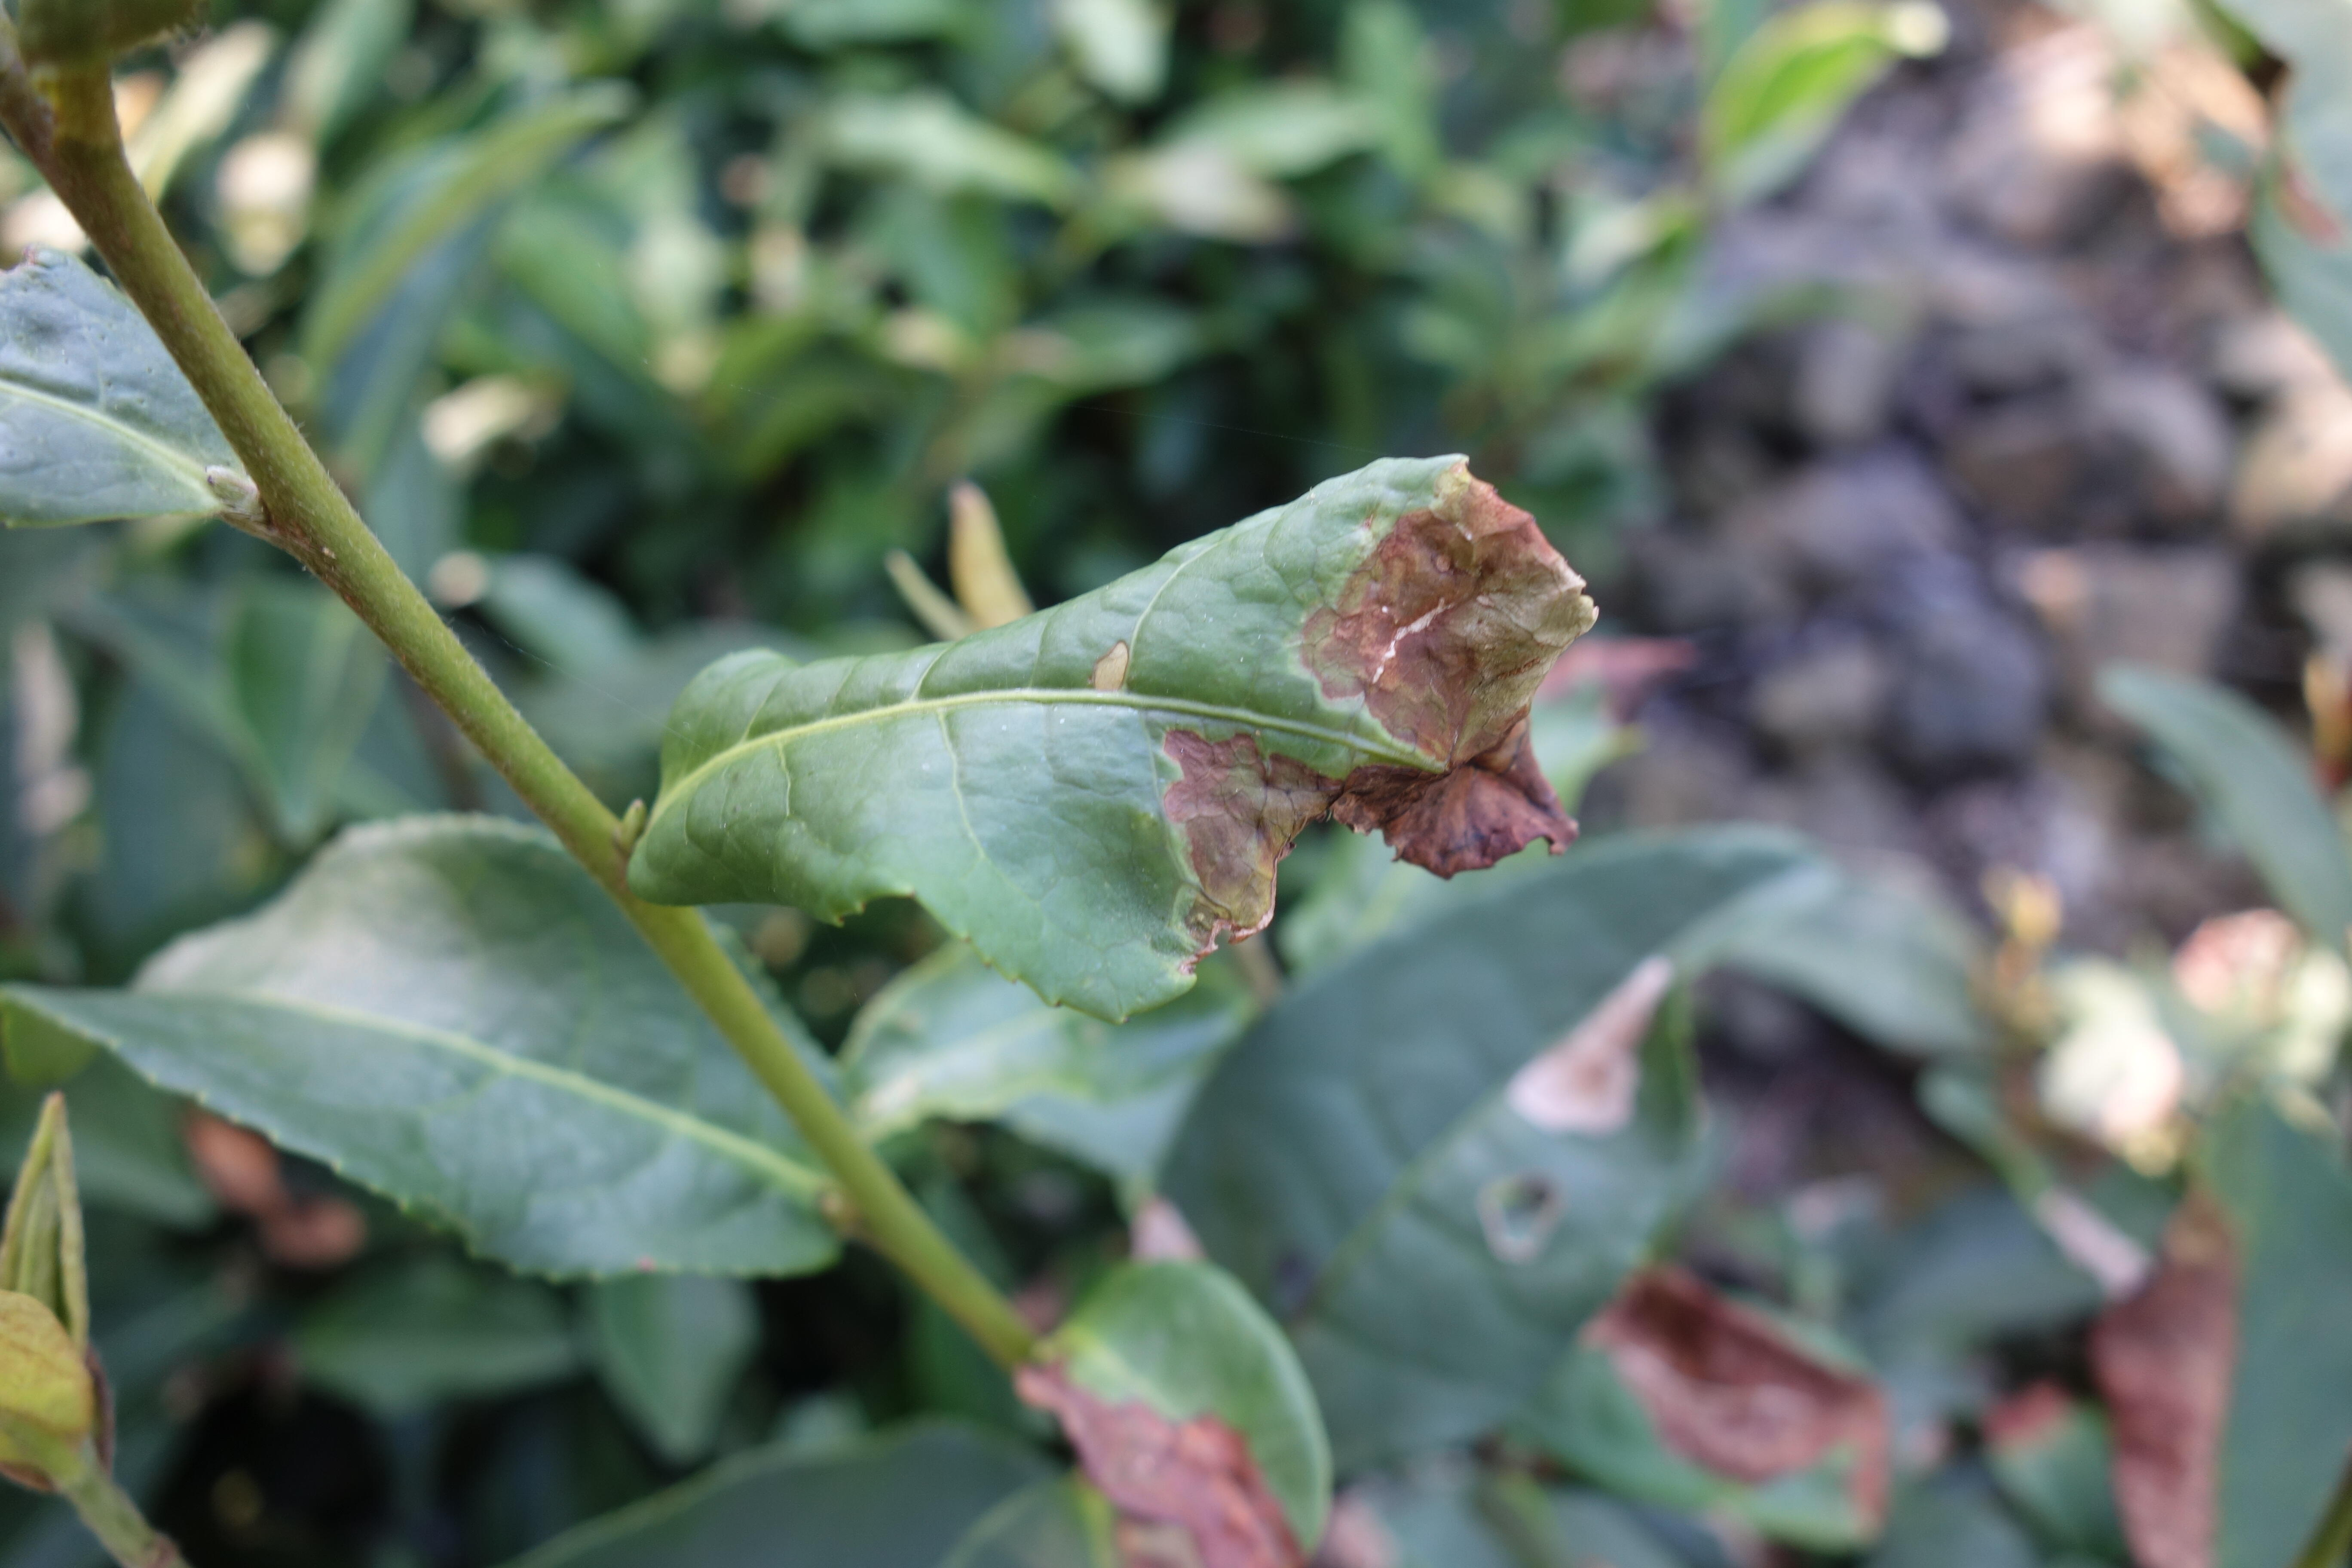tanju_high: (628, 455, 1603, 1029)
